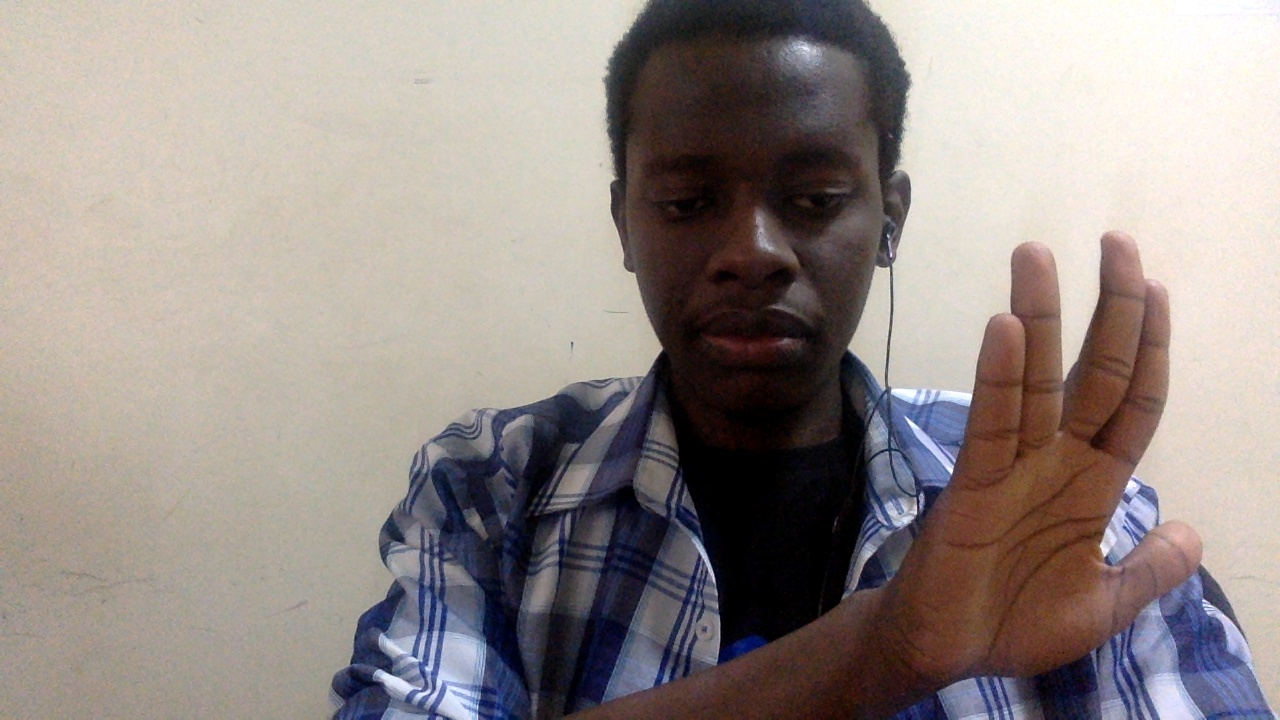LiveLong: (886, 232, 1207, 678)
